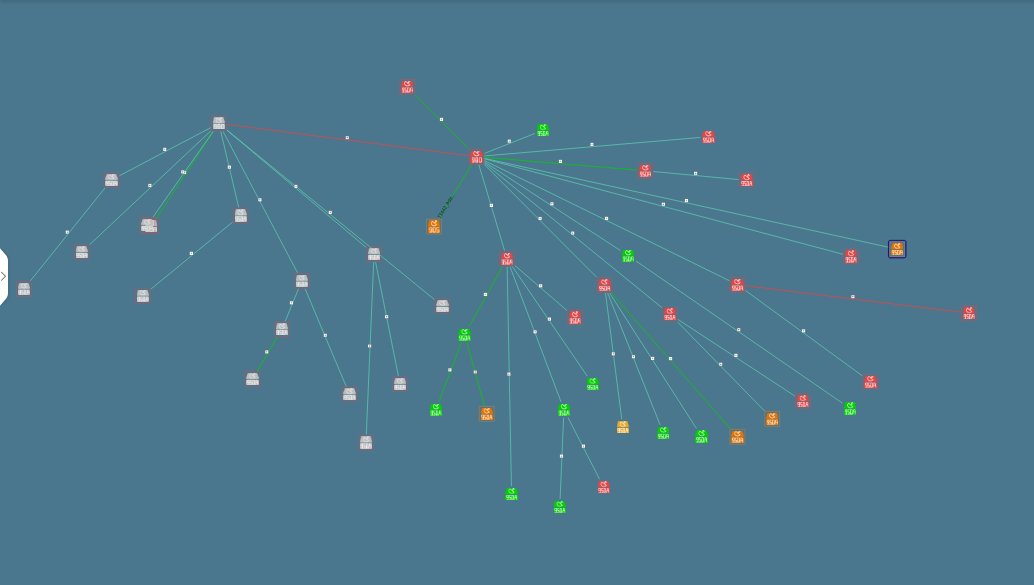ATN_Orange: (889, 238, 905, 262)
ATN_Red: (701, 128, 719, 144)
Link_Blue: (520, 179, 848, 404), (532, 166, 881, 255), (234, 152, 346, 391), (87, 128, 215, 288), (48, 128, 204, 257), (527, 326, 603, 478), (488, 166, 591, 271), (746, 289, 860, 378), (525, 288, 590, 378), (255, 276, 312, 368), (519, 283, 561, 404), (488, 134, 695, 157), (616, 314, 658, 419), (372, 263, 399, 377), (514, 263, 570, 314), (604, 310, 628, 423), (565, 422, 603, 482), (565, 420, 603, 480), (385, 257, 433, 297), (216, 128, 237, 210), (643, 166, 735, 184), (365, 255, 376, 378), (481, 186, 502, 246), (365, 255, 375, 378), (683, 322, 803, 328), (559, 419, 570, 438), (507, 469, 519, 483), (559, 425, 570, 436), (675, 322, 688, 328)
Link_Green: (488, 166, 738, 430), (611, 296, 729, 430), (152, 128, 212, 223), (417, 95, 473, 152), (564, 160, 698, 178), (436, 166, 469, 223), (469, 270, 496, 322), (436, 349, 457, 404), (469, 362, 483, 402), (564, 160, 632, 166)
Link_Red: (229, 121, 462, 158), (746, 283, 955, 310)
RTN_Green: (656, 425, 674, 443), (456, 328, 473, 346), (553, 503, 570, 520), (585, 380, 603, 389), (624, 250, 633, 268), (843, 406, 861, 415), (430, 406, 448, 415), (507, 490, 517, 501), (559, 406, 569, 415)
RTN_Red: (501, 250, 519, 268)
Router_Red: (469, 154, 486, 165)
